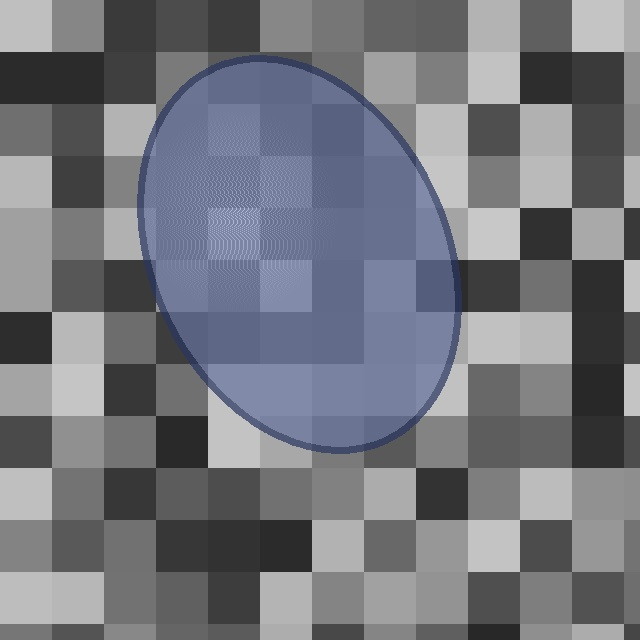lens: (140, 58, 458, 450)
